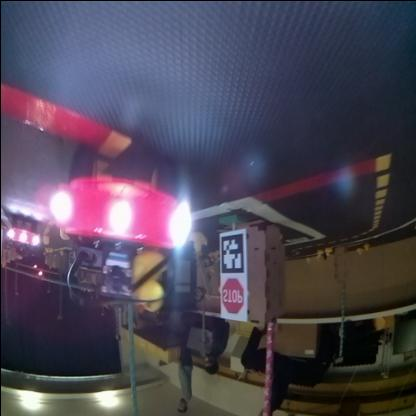Duckie: (130, 252, 167, 310)
Duckiebot: (50, 152, 188, 284), (6, 218, 38, 254)
QR code: (219, 233, 244, 273)
Stop sign: (221, 276, 243, 312)
